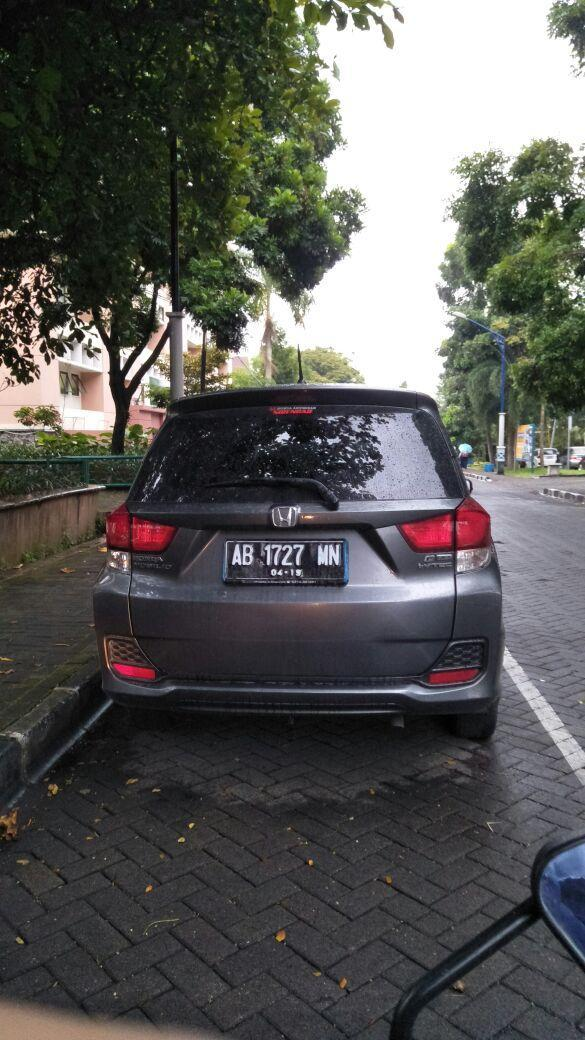clone-license-plate: (224, 537, 345, 582)
